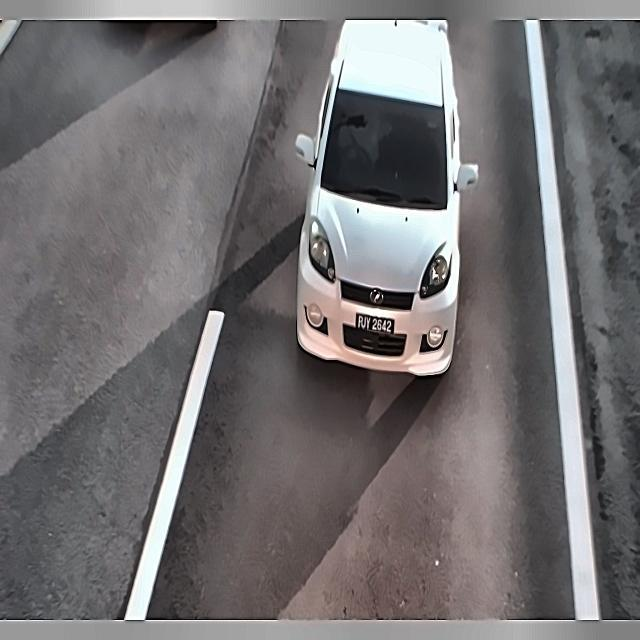car: (351, 304, 398, 345)
